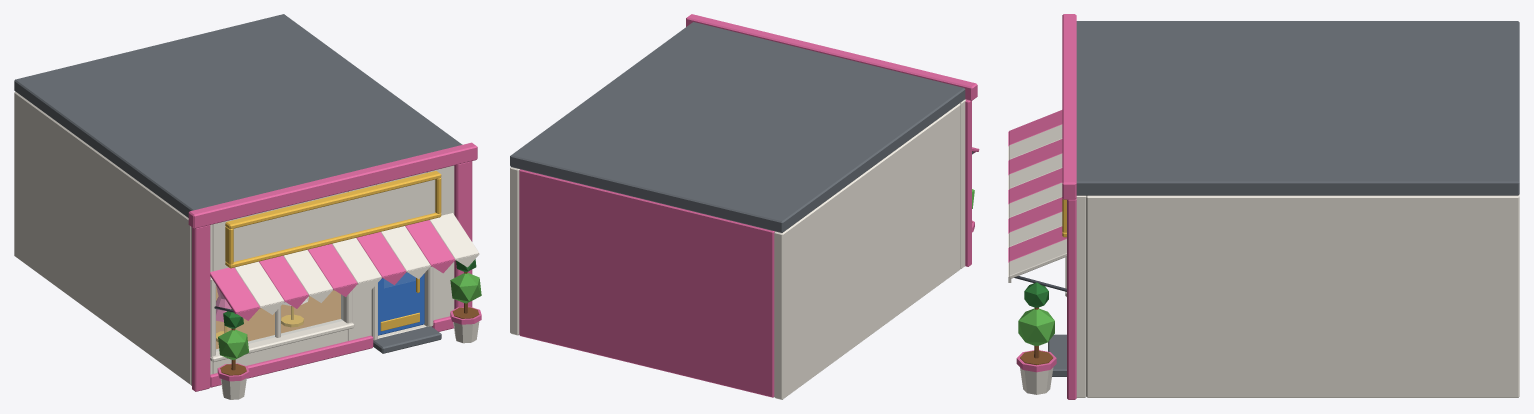
The model's file is pink-fashion-boutique.glb.
3 views of the same model, side by side, from view 1: azimuth 30°, elevation 25°; view 2: azimuth 150°, elevation 25°; view 3: azimuth 270°, elevation 25° (orthographic). The views are drawn at different scales.
Visible parts, largest first — view 1: Roof, Wall_Left, Sign_Board, Cornice, Pilaster_L, Window_Glass, Door, Sign_Frame_Top, Plinth_L, Facade_PierR, Display_Platform, Facade_UnderWindow (+23 smaller); view 2: Roof, Wall_Back, Wall_Left, Cornice, Wall_Right, Pilaster_L, Facade_PierL; view 3: Wall_Right, Roof, Cornice, Facade_PierR, Pilaster_R, Topiary_2_BallBig, Awning_Stripe_10, Awning_Stripe_9, Awning_Stripe_6, Awning_Stripe_2, Awning_Stripe_5, Awning_Stripe_1 (+7 smaller).
Boxes of the visible parts, x1,y1,x2,y2 form: Roof: [14, 14, 462, 217]; Wall_Left: [14, 91, 190, 384]; Sign_Board: [233, 179, 435, 261]; Cornice: [188, 142, 477, 228]; Pilaster_L: [192, 225, 210, 391]; Window_Glass: [216, 286, 342, 351]; Door: [378, 272, 424, 335]; Sign_Frame_Top: [225, 171, 441, 229]; Plinth_L: [210, 335, 373, 387]; Facade_PierR: [424, 165, 454, 326]; Display_Platform: [216, 304, 332, 349]; Facade_UnderWindow: [212, 329, 347, 373]; Roof: [510, 22, 965, 232]; Wall_Back: [519, 169, 774, 397]; Wall_Left: [774, 103, 960, 399]; Cornice: [686, 14, 977, 100]; Wall_Right: [510, 167, 519, 335]; Pilaster_L: [965, 100, 971, 266]; Facade_PierL: [960, 99, 965, 268]; Wall_Right: [1086, 194, 1519, 397]; Roof: [1076, 21, 1519, 195]; Cornice: [1062, 14, 1076, 199]; Facade_PierR: [1076, 195, 1085, 397]; Pilaster_R: [1067, 198, 1076, 399]; Topiary_2_BallBig: [1018, 308, 1054, 345]; Awning_Stripe_10: [1009, 239, 1066, 278]; Awning_Stripe_9: [1009, 226, 1066, 261]; Awning_Stripe_6: [1009, 183, 1062, 218]; Awning_Stripe_2: [1009, 124, 1062, 159]; Awning_Stripe_5: [1009, 168, 1062, 203]; Awning_Stripe_1: [1009, 110, 1062, 145].
Bounding box in the file's own units: 25.2 × 15.2 × 32.08.
